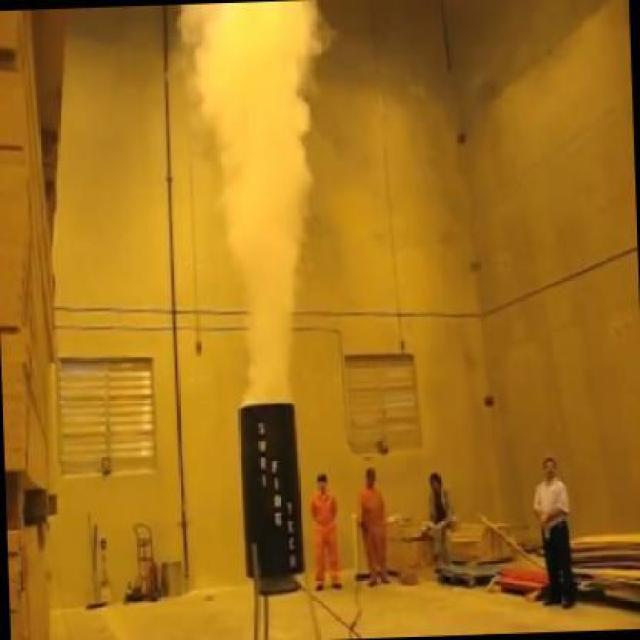fire: (176, 0, 342, 397)
